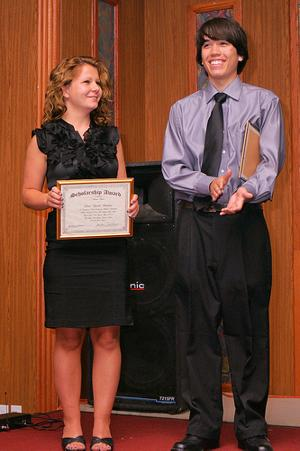person: (162, 14, 286, 450)
